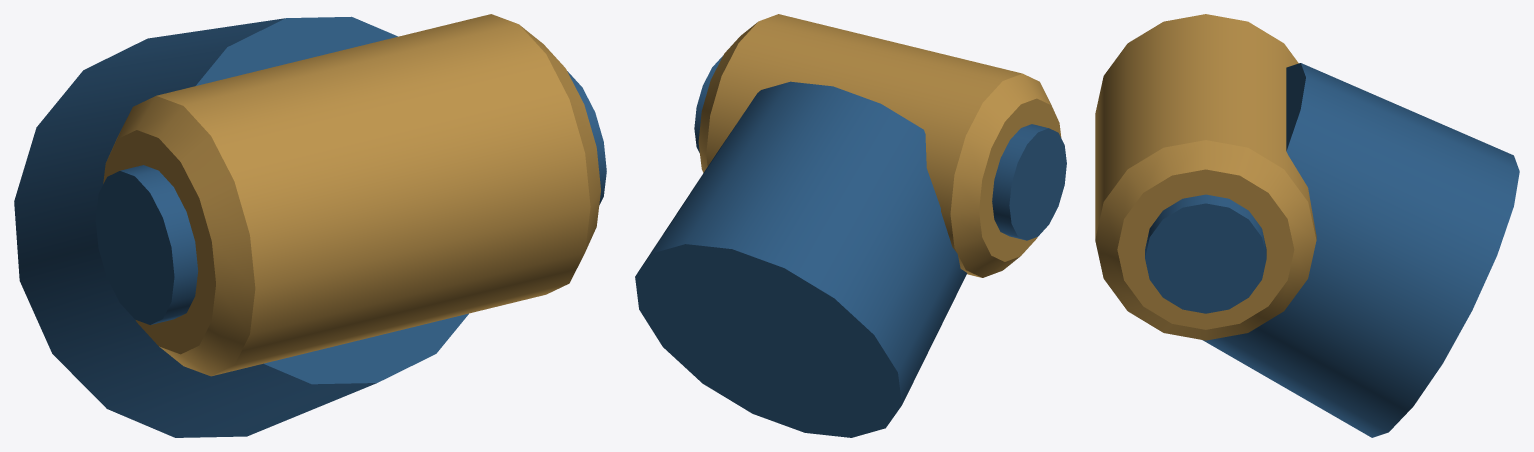
The model's file is rm2_neck.obj.
3 views of the same model, side by side, from view 1: azimuth 30°, elevation 25°; view 2: azimuth 150°, elevation 25°; view 3: azimuth 270°, elevation 25° (orthographic). The views are drawn at different scales.
Parts seen in each view (by area): view 1: rm2_neck; view 2: rm2_neck; view 3: rm2_neck.
Part boxes in pixels (bbox=[...]): rm2_neck: bbox=[14, 14, 606, 437]; rm2_neck: bbox=[635, 14, 1066, 437]; rm2_neck: bbox=[1095, 14, 1519, 437].
Bounding box in the file's own units: 0.146 × 0.1445 × 0.1611.
